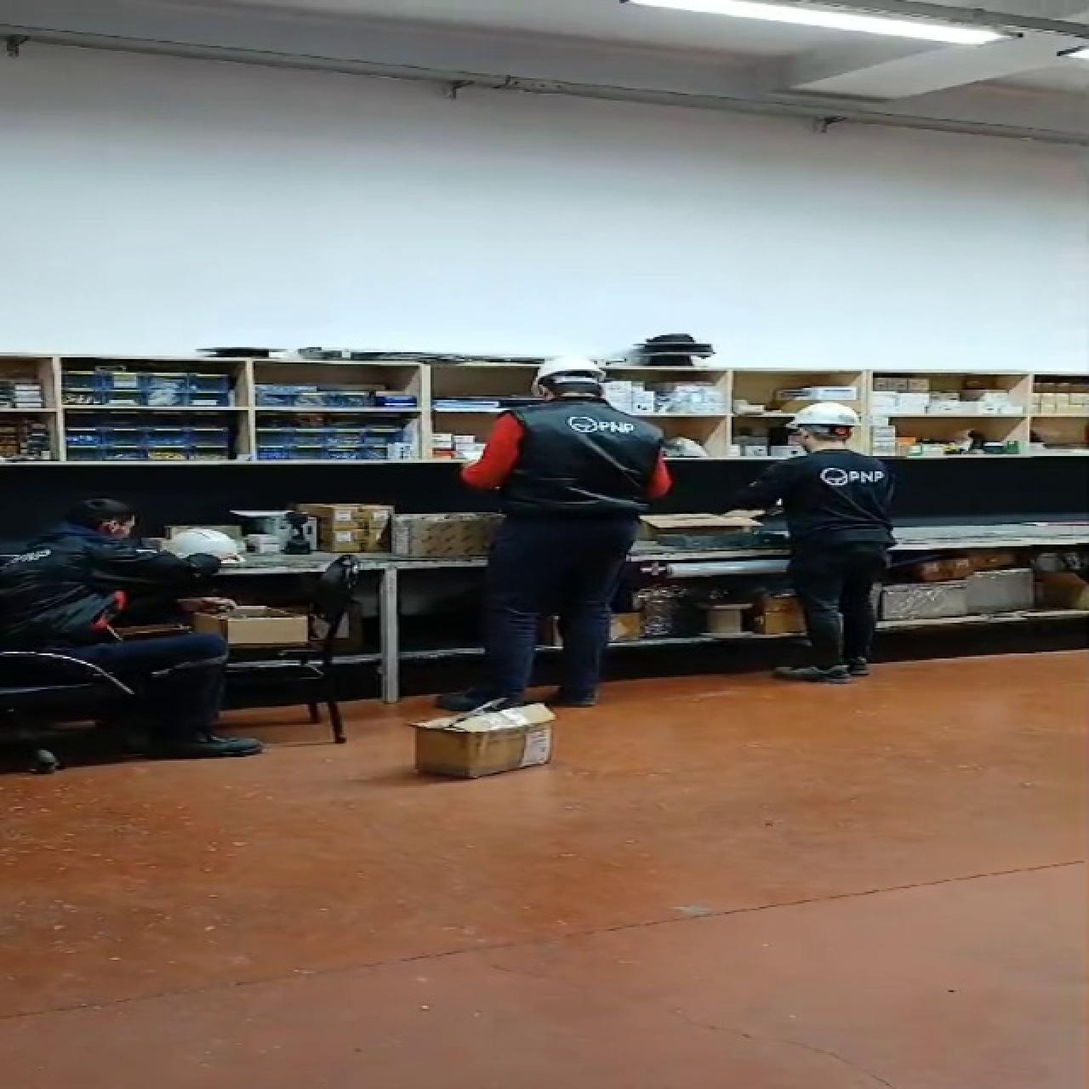NO_Safety_Vest: (510, 401, 655, 527), (773, 452, 896, 551), (3, 535, 105, 623)
Person: (450, 345, 676, 715), (0, 490, 277, 768), (737, 388, 904, 696)
